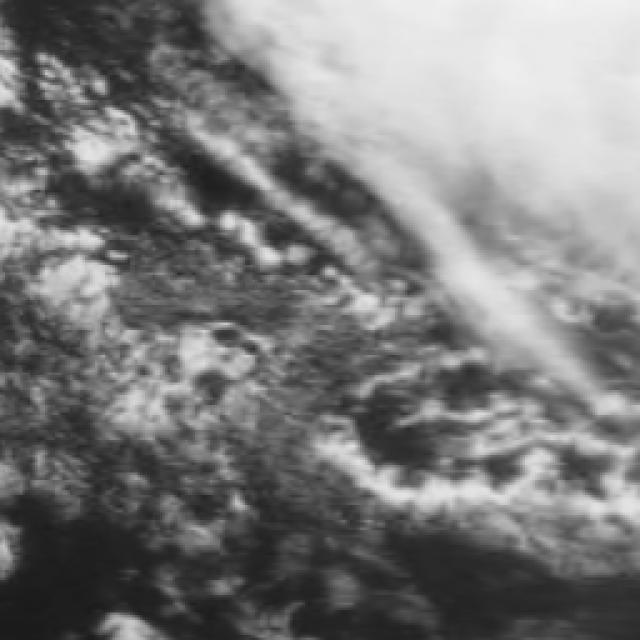CB: (447, 2, 640, 183), (300, 2, 511, 129)
